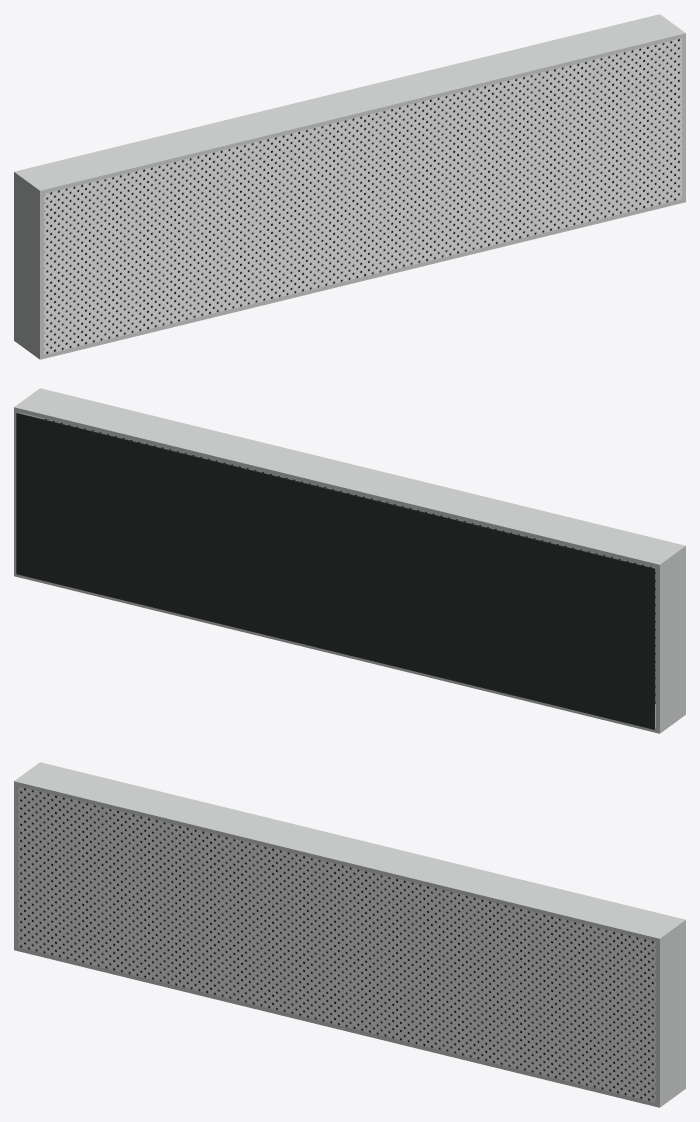
The model's file is ecoclima-egff-500x125.glb.
3 renders of one model, top to bottom at view 1: azimuth 30°, elevation 25°; view 2: azimuth 150°, elevation 25°; view 3: azimuth 330°, elevation 25°, orthographic.
Visible parts, largest first — view 1: Profile_lamiera_forata.001, Profile_ritorno.120, Profile_ritorno.122, Profile_ritorno.121, Profile_ritorno.123; view 2: Interno.032, Profile_ritorno.120, Profile_ritorno.122, Profile_ritorno.121, Profile_lamiera_forata.001; view 3: Profile_lamiera_forata.001, Profile_ritorno.120, Profile_ritorno.123, Profile_ritorno.121, Profile_ritorno.122.
Boxes of the visible parts, left/top/right/bottom form: Profile_lamiera_forata.001: left=44, top=38, right=681, bottom=354; Profile_ritorno.120: left=14, top=14, right=685, bottom=194; Profile_ritorno.122: left=14, top=176, right=43, bottom=355; Profile_ritorno.121: left=14, top=198, right=685, bottom=359; Profile_ritorno.123: left=682, top=37, right=685, bottom=198; Interno.032: left=16, top=413, right=655, bottom=729; Profile_ritorno.120: left=14, top=388, right=685, bottom=568; Profile_ritorno.122: left=656, top=550, right=685, bottom=729; Profile_ritorno.121: left=14, top=572, right=685, bottom=733; Profile_lamiera_forata.001: left=43, top=418, right=655, bottom=703; Profile_lamiera_forata.001: left=18, top=786, right=655, bottom=1102; Profile_ritorno.120: left=14, top=762, right=685, bottom=942; Profile_ritorno.123: left=656, top=924, right=685, bottom=1103; Profile_ritorno.121: left=14, top=946, right=685, bottom=1107; Profile_ritorno.122: left=14, top=785, right=17, bottom=946.
Bounding box in the file's own units: 0.5 × 0.125 × 0.037.
3 materials, 1 textured.
